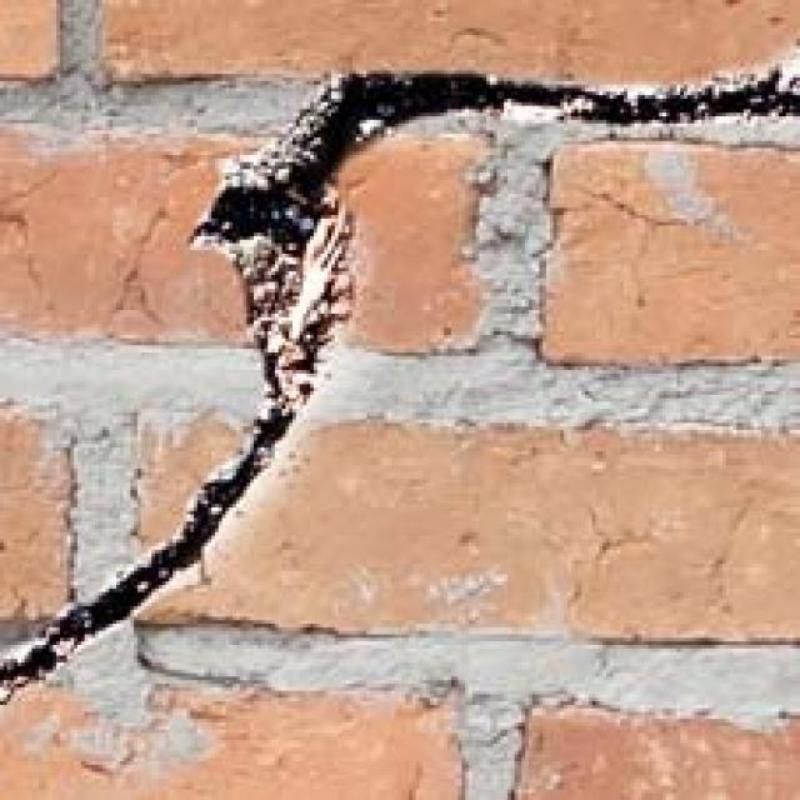pothole: (0, 64, 800, 699)
